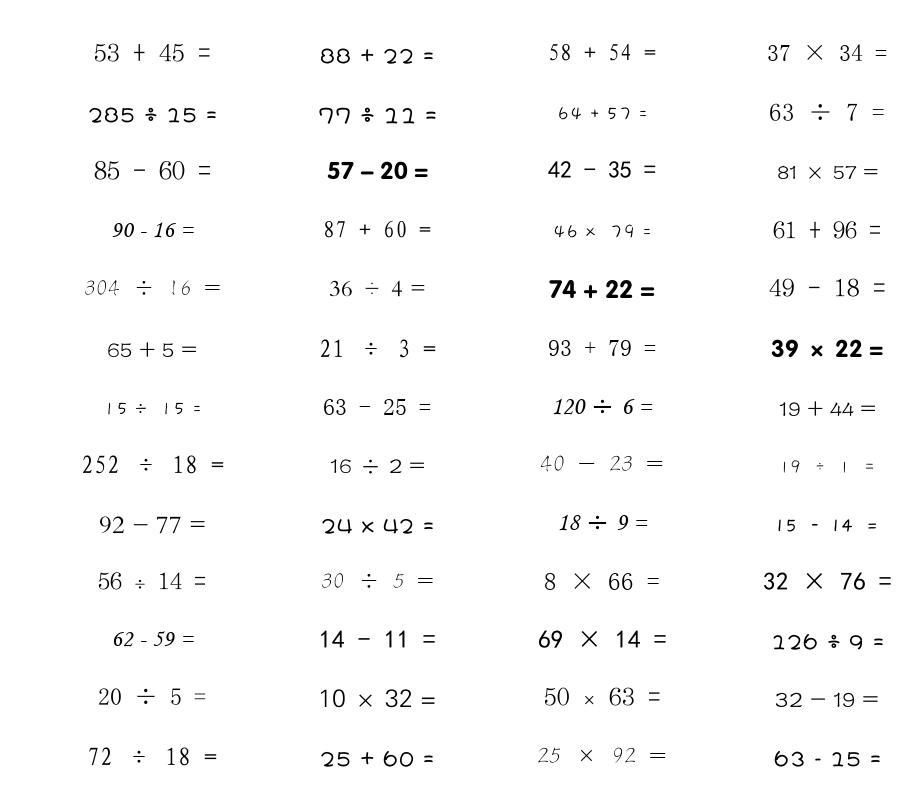MQ: (81, 455, 224, 474), (87, 747, 217, 766), (94, 160, 211, 180), (763, 572, 892, 590), (538, 630, 667, 648), (318, 689, 436, 708), (94, 43, 211, 62), (769, 278, 886, 297), (319, 339, 436, 358), (544, 687, 661, 706), (84, 280, 221, 296), (771, 339, 883, 358), (549, 279, 655, 299), (540, 455, 664, 472), (319, 630, 436, 648), (769, 103, 885, 121), (537, 747, 667, 763), (88, 107, 217, 123), (767, 44, 887, 61), (318, 107, 437, 124), (544, 573, 660, 590), (548, 43, 656, 61), (323, 220, 431, 238), (773, 221, 881, 239), (98, 572, 206, 590), (320, 750, 434, 767), (99, 516, 206, 534), (771, 633, 884, 650), (327, 161, 428, 180), (548, 161, 656, 178), (98, 688, 206, 705), (320, 48, 434, 64), (774, 750, 881, 767), (321, 518, 434, 534), (551, 398, 653, 415), (548, 340, 656, 356), (323, 399, 431, 415), (321, 573, 434, 588), (329, 280, 426, 297), (779, 400, 876, 417), (775, 692, 879, 707), (557, 514, 648, 531), (107, 341, 197, 358), (553, 224, 652, 239), (330, 459, 425, 474), (777, 165, 878, 179), (103, 402, 202, 416), (779, 460, 876, 474), (776, 519, 879, 532), (111, 222, 194, 238), (111, 631, 194, 647), (557, 107, 648, 121)
